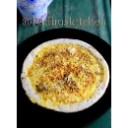dosa: (22, 37, 109, 110)
